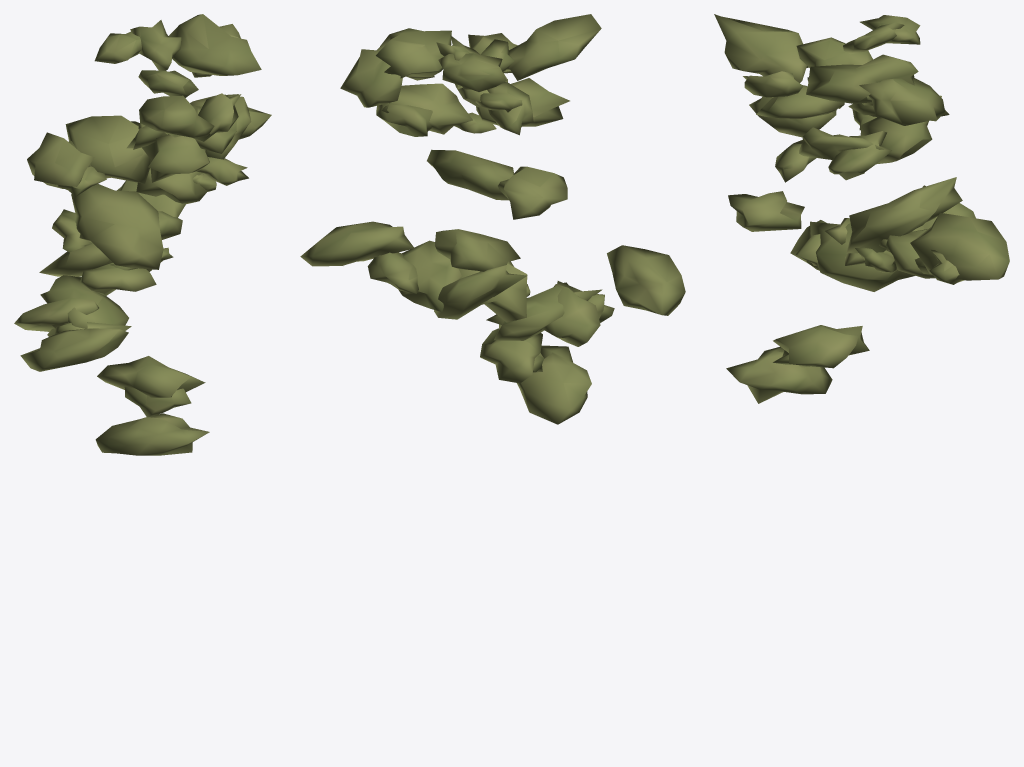
Rendered from baum-buche-1-mittel.glb.
The picture shows the model from 3 angles, left to right: view 1: azimuth 30°, elevation 25°; view 2: azimuth 150°, elevation 25°; view 3: azimuth 270°, elevation 25°; orthographic projection. The views are drawn at different scales.
Parts seen in each view (by area): view 1: Baum_Stamm.001; view 2: Baum_Stamm.001; view 3: Baum_Stamm.001.
Boxes of the visible parts, bbox=[...] form: Baum_Stamm.001: bbox=[14, 14, 271, 455]; Baum_Stamm.001: bbox=[300, 14, 685, 424]; Baum_Stamm.001: bbox=[714, 14, 1009, 403].
Bounding box in the file's own units: 10.83 × 27.18 × 9.94.
